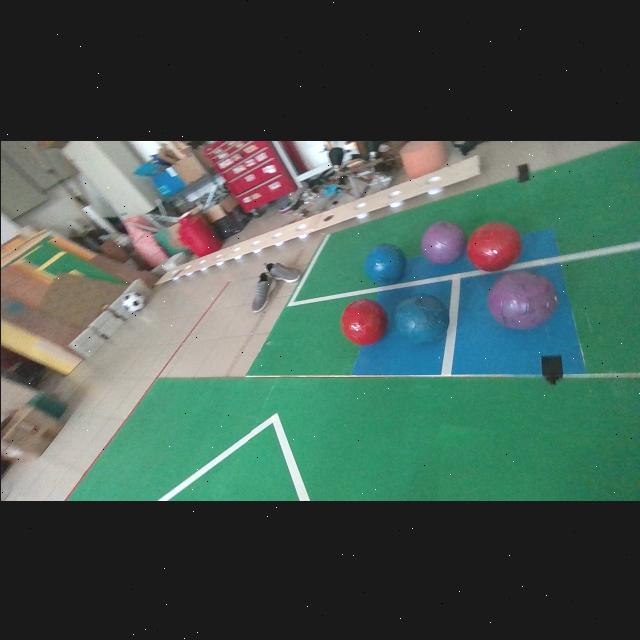B: (394, 294, 448, 342), (365, 244, 405, 283)
P: (486, 269, 558, 329), (420, 220, 464, 262)
R: (466, 221, 521, 269), (340, 299, 386, 344)
